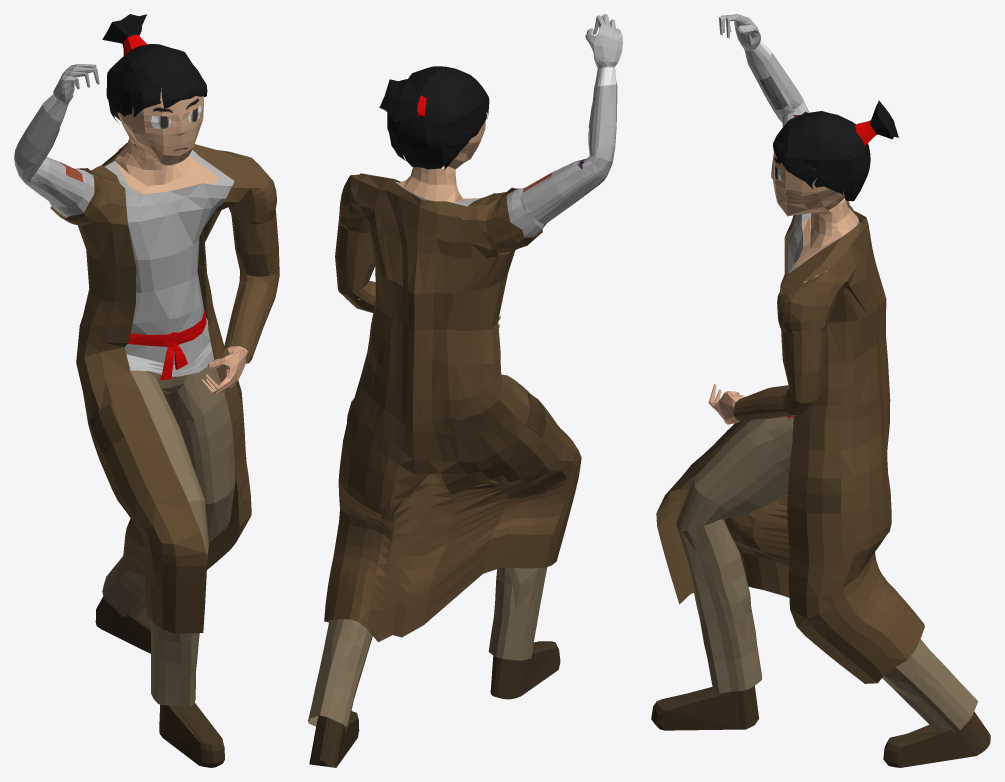
File: Special_Attack_000008.obj
3 renders of one model, left to right at view 1: azimuth 30°, elevation 25°; view 2: azimuth 150°, elevation 25°; view 3: azimuth 270°, elevation 25°, orthographic. The views are drawn at different scales.
Visible parts, largest first — view 1: Hair_Cube.004; view 2: Hair_Cube.004; view 3: Hair_Cube.004.
Part boxes in pixels (left/top/right/bottom): Hair_Cube.004: left=14, top=14, right=279, bottom=767; Hair_Cube.004: left=308, top=14, right=622, bottom=767; Hair_Cube.004: left=651, top=14, right=990, bottom=767.
Size of the model in its own units: 1.54 by 3.84 by 1.77.
